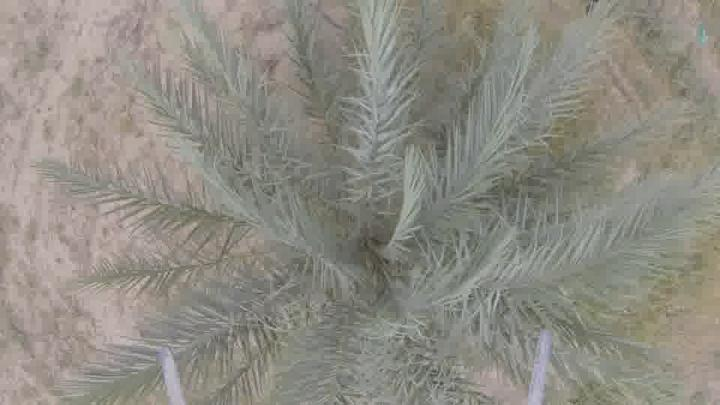Date-Palm-Crown: (134, 74, 586, 404)
